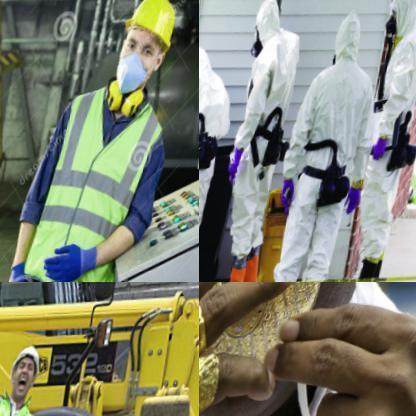vest: (25, 78, 177, 281), (269, 63, 386, 281), (222, 38, 302, 256), (362, 35, 415, 267), (199, 73, 240, 273)
